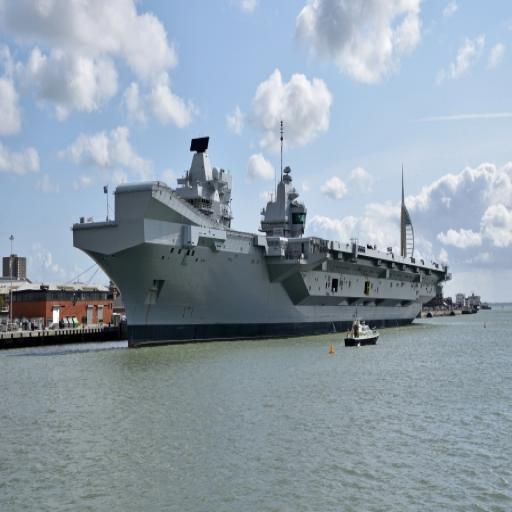Portanaves: (74, 120, 454, 352)
